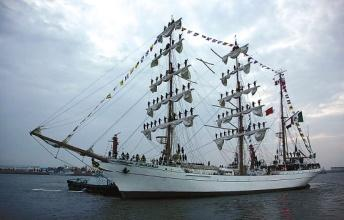fanchuan: (31, 16, 319, 192)
